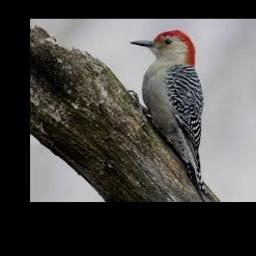Woodpecker: (131, 30, 218, 202)
